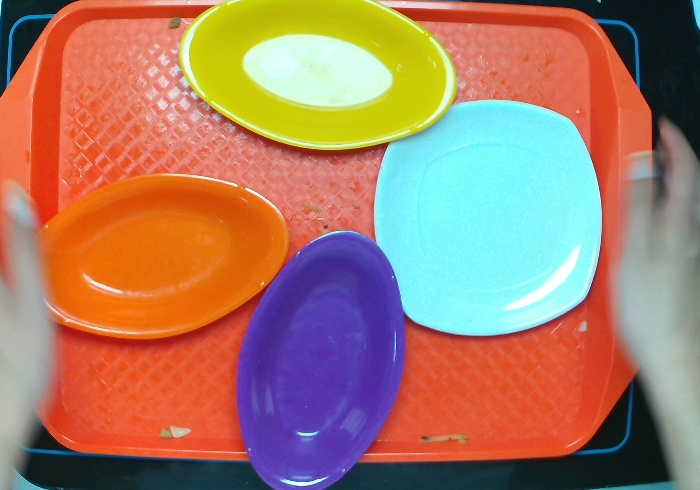RJxy-Fen_Hong_Tuo_Yuan: (224, 226, 407, 488)
RJxy-Huang_Se_Tuo_Yuan: (173, 1, 461, 160)
RJxy-Ju_Huang_Tuo_Yuan: (17, 169, 293, 348)
RJxy-Si_Fang_Die: (370, 96, 607, 349)
